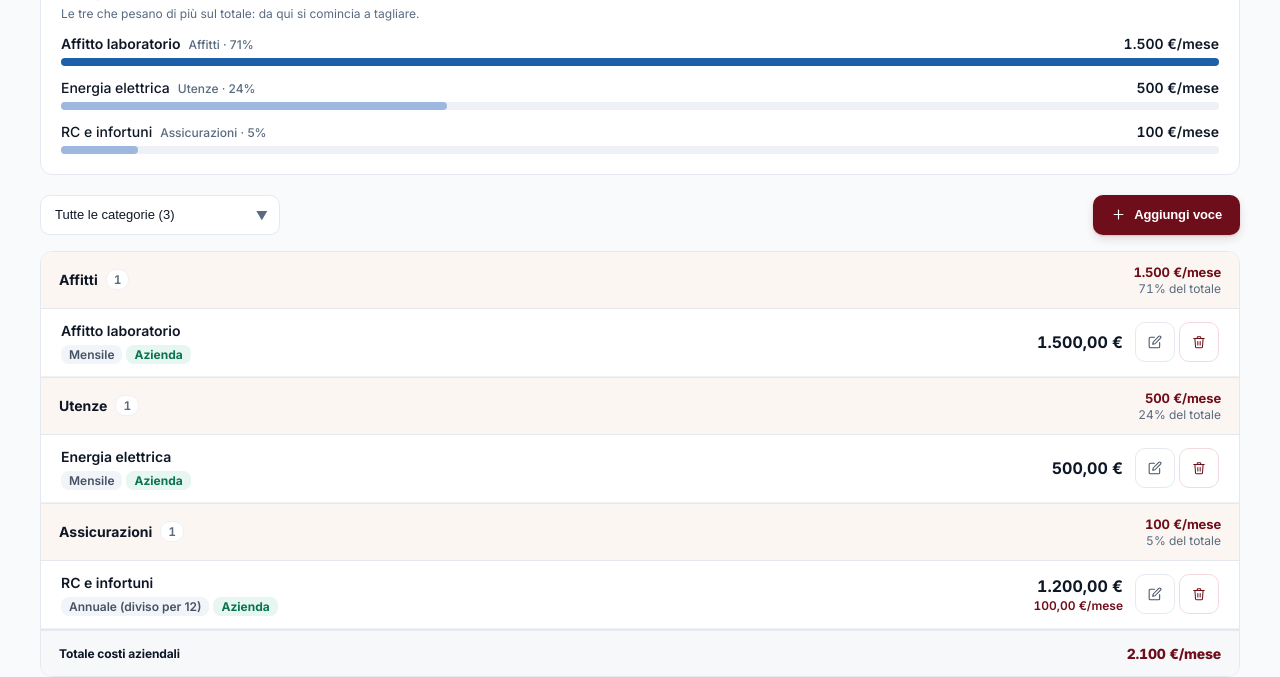
Costi fissi · salvare non deve perdere né duplicare › durante il salvataggio il pulsante è spento e lo dice
(page scrolled)
Click the button named "Modifica voce Affitto laboratorio": coordinates (1155, 342) [1135,322,1175,362]
(page scrolled)
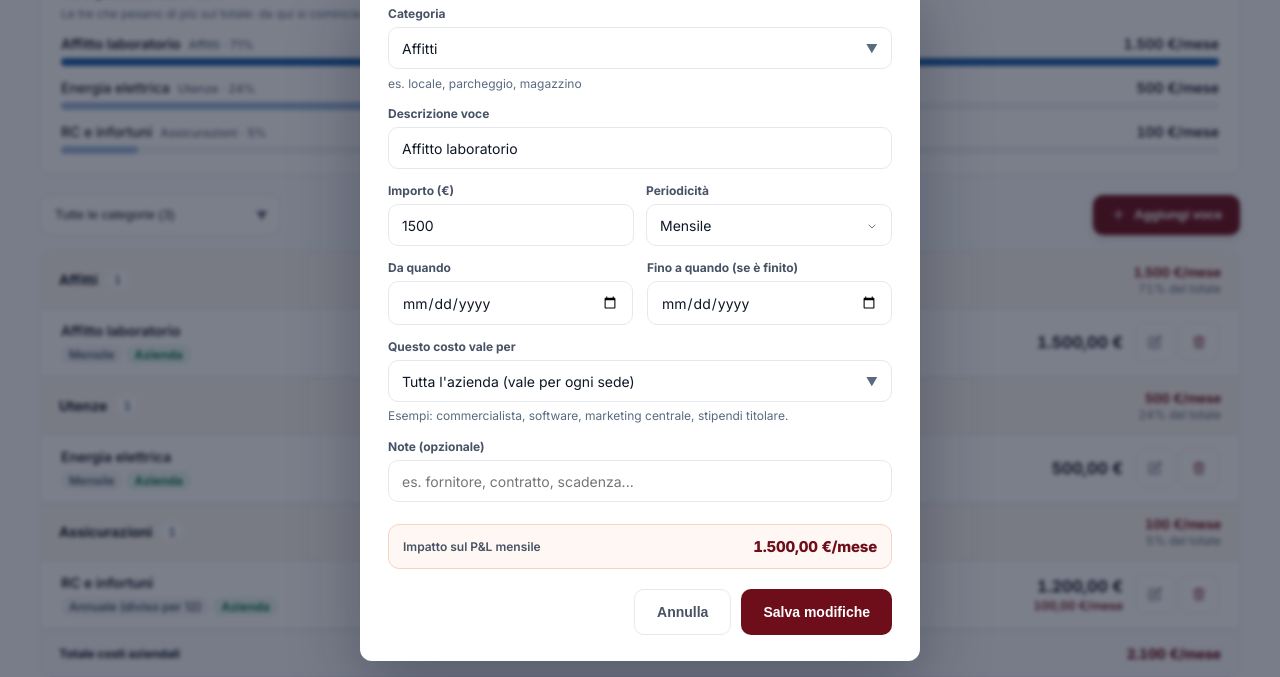
Click the button "Salva modifiche": coordinates (817, 612) [741,589,892,635]
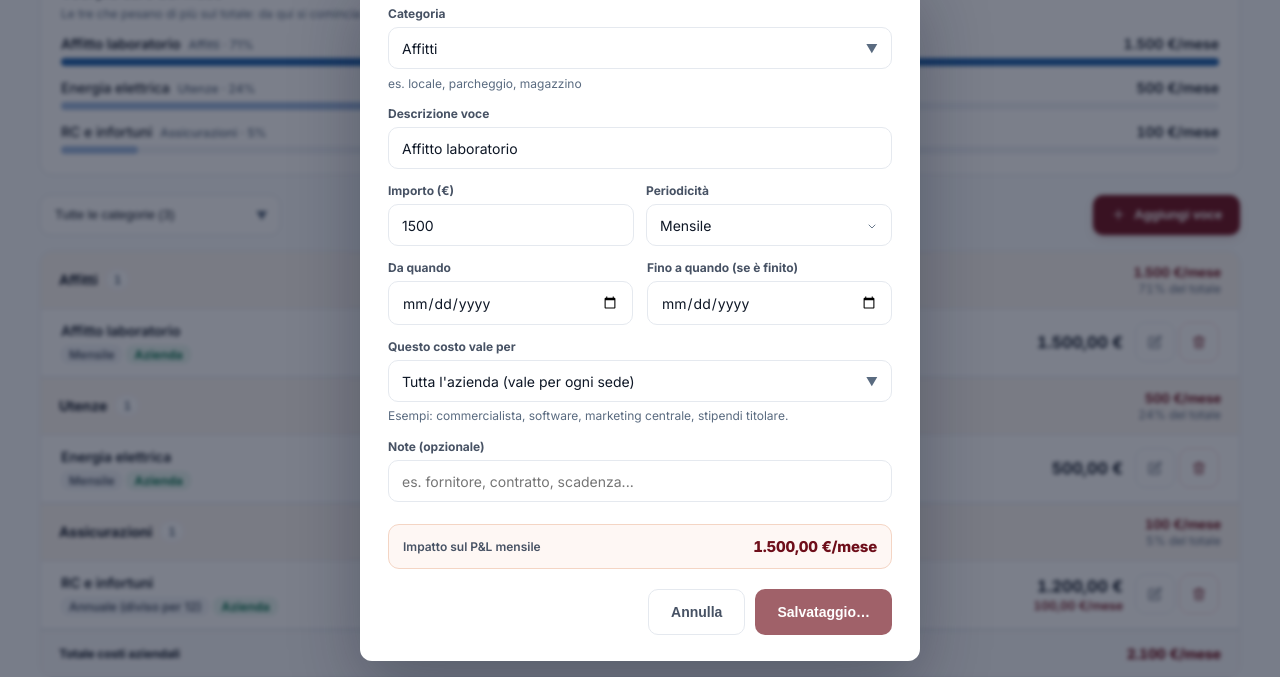
Expected: the button "Salvataggio…" is disabled, [755,589,892,635]
